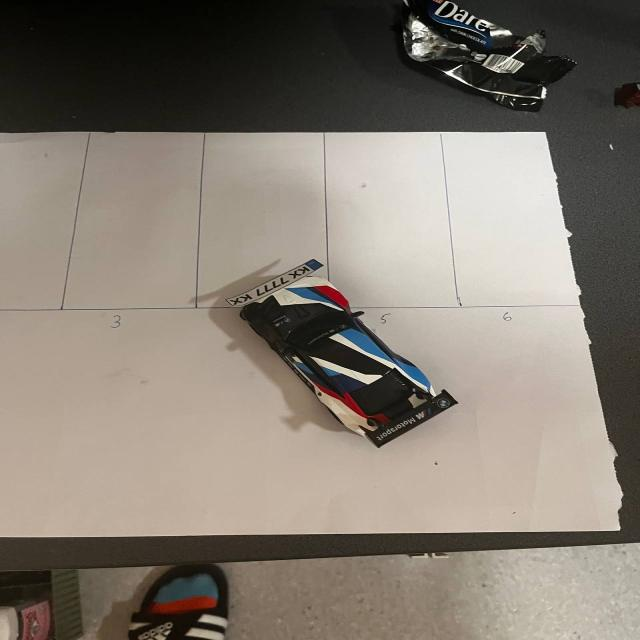KX 7777 KX: (221, 257, 328, 310)
